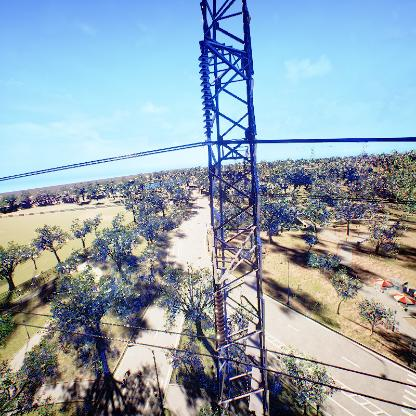insulator: (197, 53, 215, 138), (211, 289, 227, 352)
